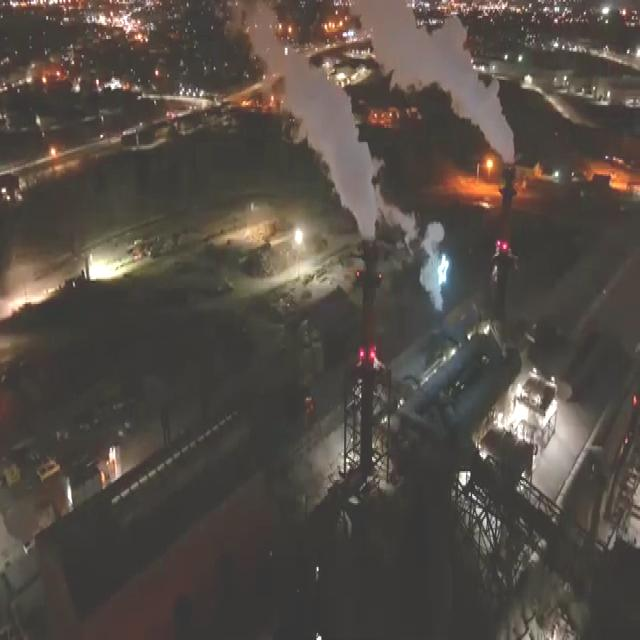smoke: (280, 36, 379, 238), (401, 20, 515, 160), (417, 215, 487, 324)
